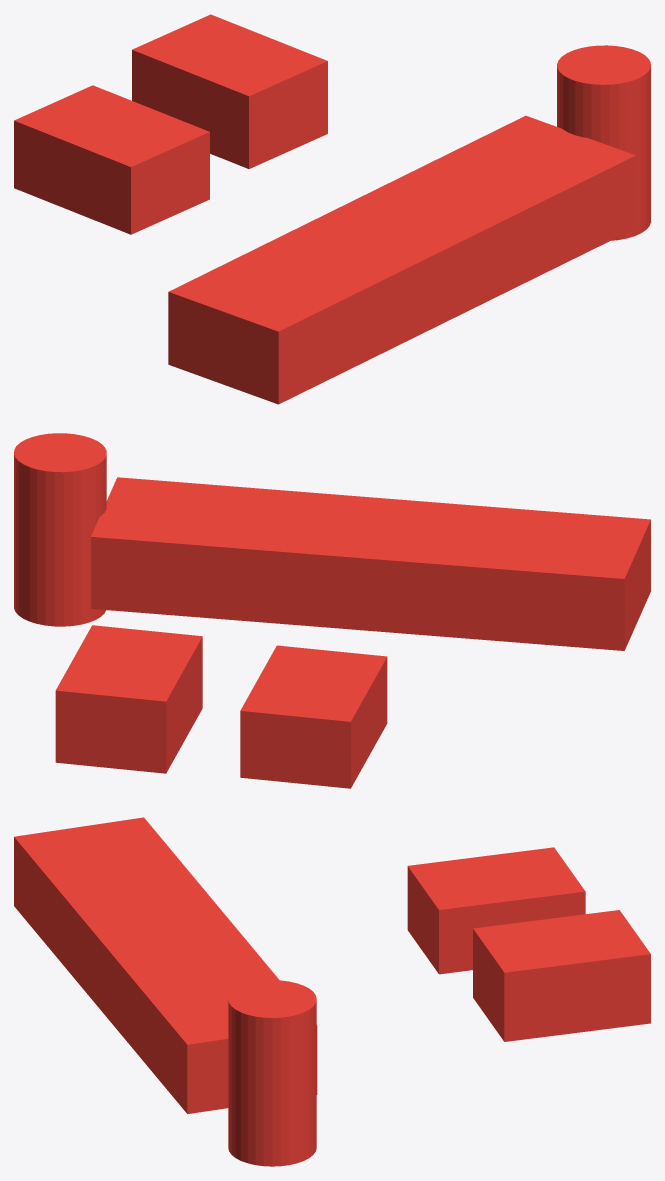
Rendered from Triggers_Castle.gltf.
3 renders of one model, top to bottom at view 1: azimuth 30°, elevation 25°; view 2: azimuth 150°, elevation 25°; view 3: azimuth 270°, elevation 25°, orthographic. The views are drawn at different scales.
Parts seen in each view (by area): view 1: Cube.002, Cube, Cube.001, Cylinder; view 2: Cube.002, Cube.001, Cube, Cylinder; view 3: Cube.002, Cube.001, Cylinder, Cube.
Boxes of the visible parts, x1,y1,x2,y2 form: Cube.002: (168,115,635,404); Cube: (14,85,209,234); Cube.001: (132,14,327,168); Cylinder: (557,45,650,240); Cube.002: (91,477,650,650); Cube.001: (55,625,202,773); Cube: (240,645,387,788); Cylinder: (14,433,106,626); Cube.002: (14,817,317,1113); Cube.001: (473,910,650,1041); Cylinder: (228,980,316,1166); Cube: (407,847,585,974).
Bounding box in the file's own units: 10.98 × 3.01 × 11.71.
